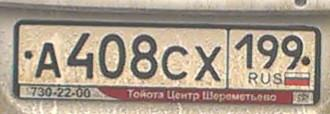license-plateSW: (15, 20, 318, 92)
